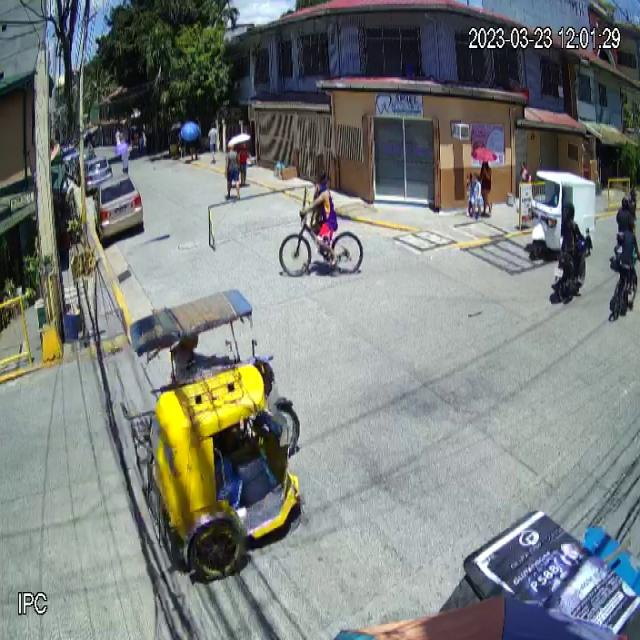Tricycle: (124, 284, 305, 581)
